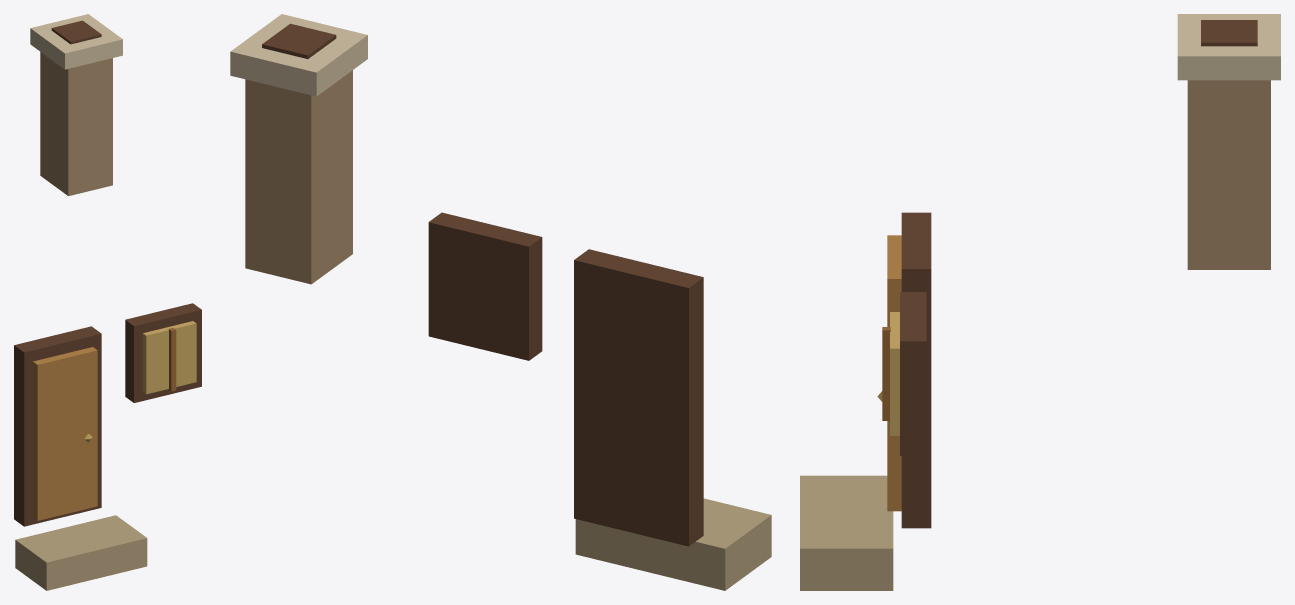
File: module-door.gltf
3 views of the same model, side by side, from view 1: azimuth 30°, elevation 25°; view 2: azimuth 150°, elevation 25°; view 3: azimuth 270°, elevation 25° (orthographic). The views are drawn at different scales.
Parts seen in each view (by area): view 1: module-door; view 2: module-door; view 3: module-door.
Part boxes in pixels (box(x1,y1,x2,y2)): module-door: box(14, 14, 201, 590); module-door: box(230, 14, 771, 590); module-door: box(800, 14, 1280, 590).
Size of the model in its own units: 1.05 by 2.03 by 1.45.
